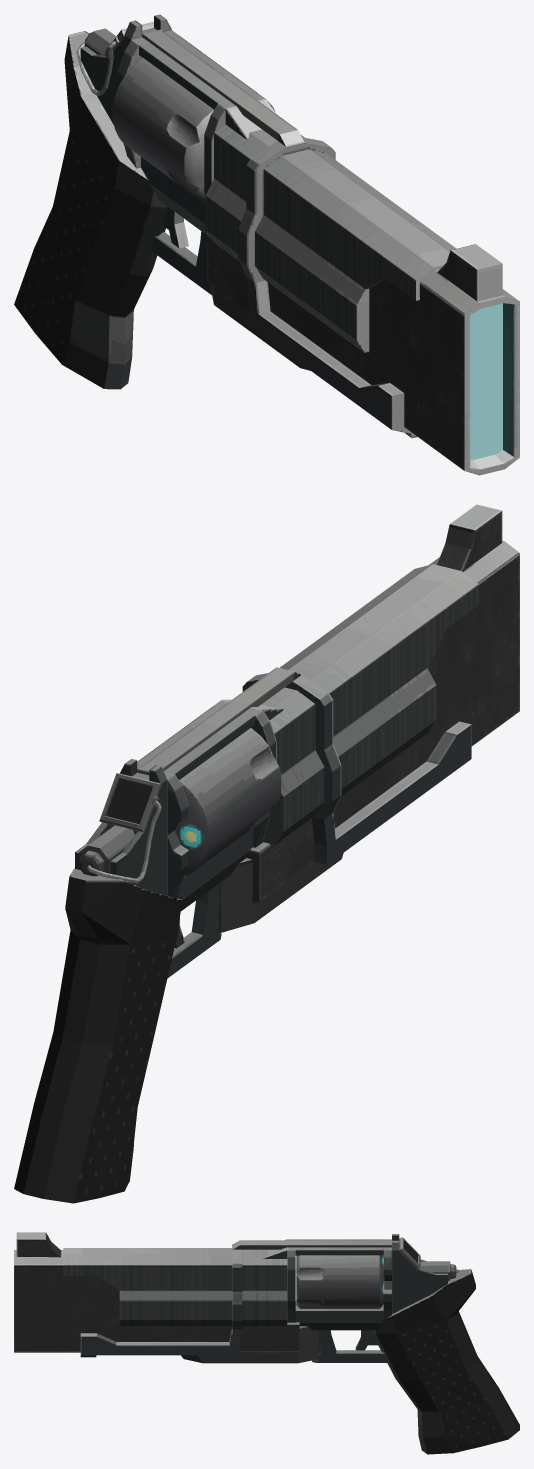
Rendered from Piercer_Revolver.fbx.
3 renders of one model, top to bottom at view 1: azimuth 30°, elevation 25°; view 2: azimuth 150°, elevation 25°; view 3: azimuth 270°, elevation 25°, orthographic. The views are drawn at different scales.
Visible parts, largest first — view 1: Revolver_Body, Revolver_Cylinder; view 2: Revolver_Body, Revolver_Cylinder; view 3: Revolver_Body, Revolver_Cylinder.
Part boxes in pixels (x1,y1,x2,y2): Revolver_Body: [14, 14, 519, 475]; Revolver_Cylinder: [112, 57, 213, 203]; Revolver_Body: [14, 504, 519, 1203]; Revolver_Cylinder: [175, 728, 281, 876]; Revolver_Body: [14, 1232, 519, 1454]; Revolver_Cylinder: [296, 1255, 383, 1308].
Size of the model in its own units: 24.44 by 90.85 by 193.
